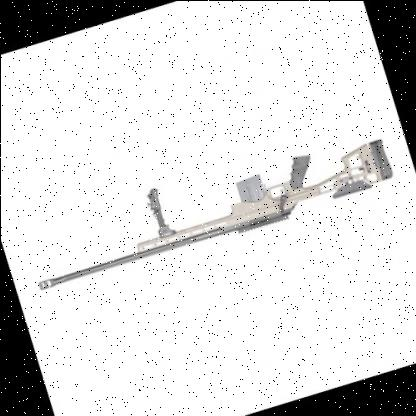rifle: (16, 114, 406, 299)
